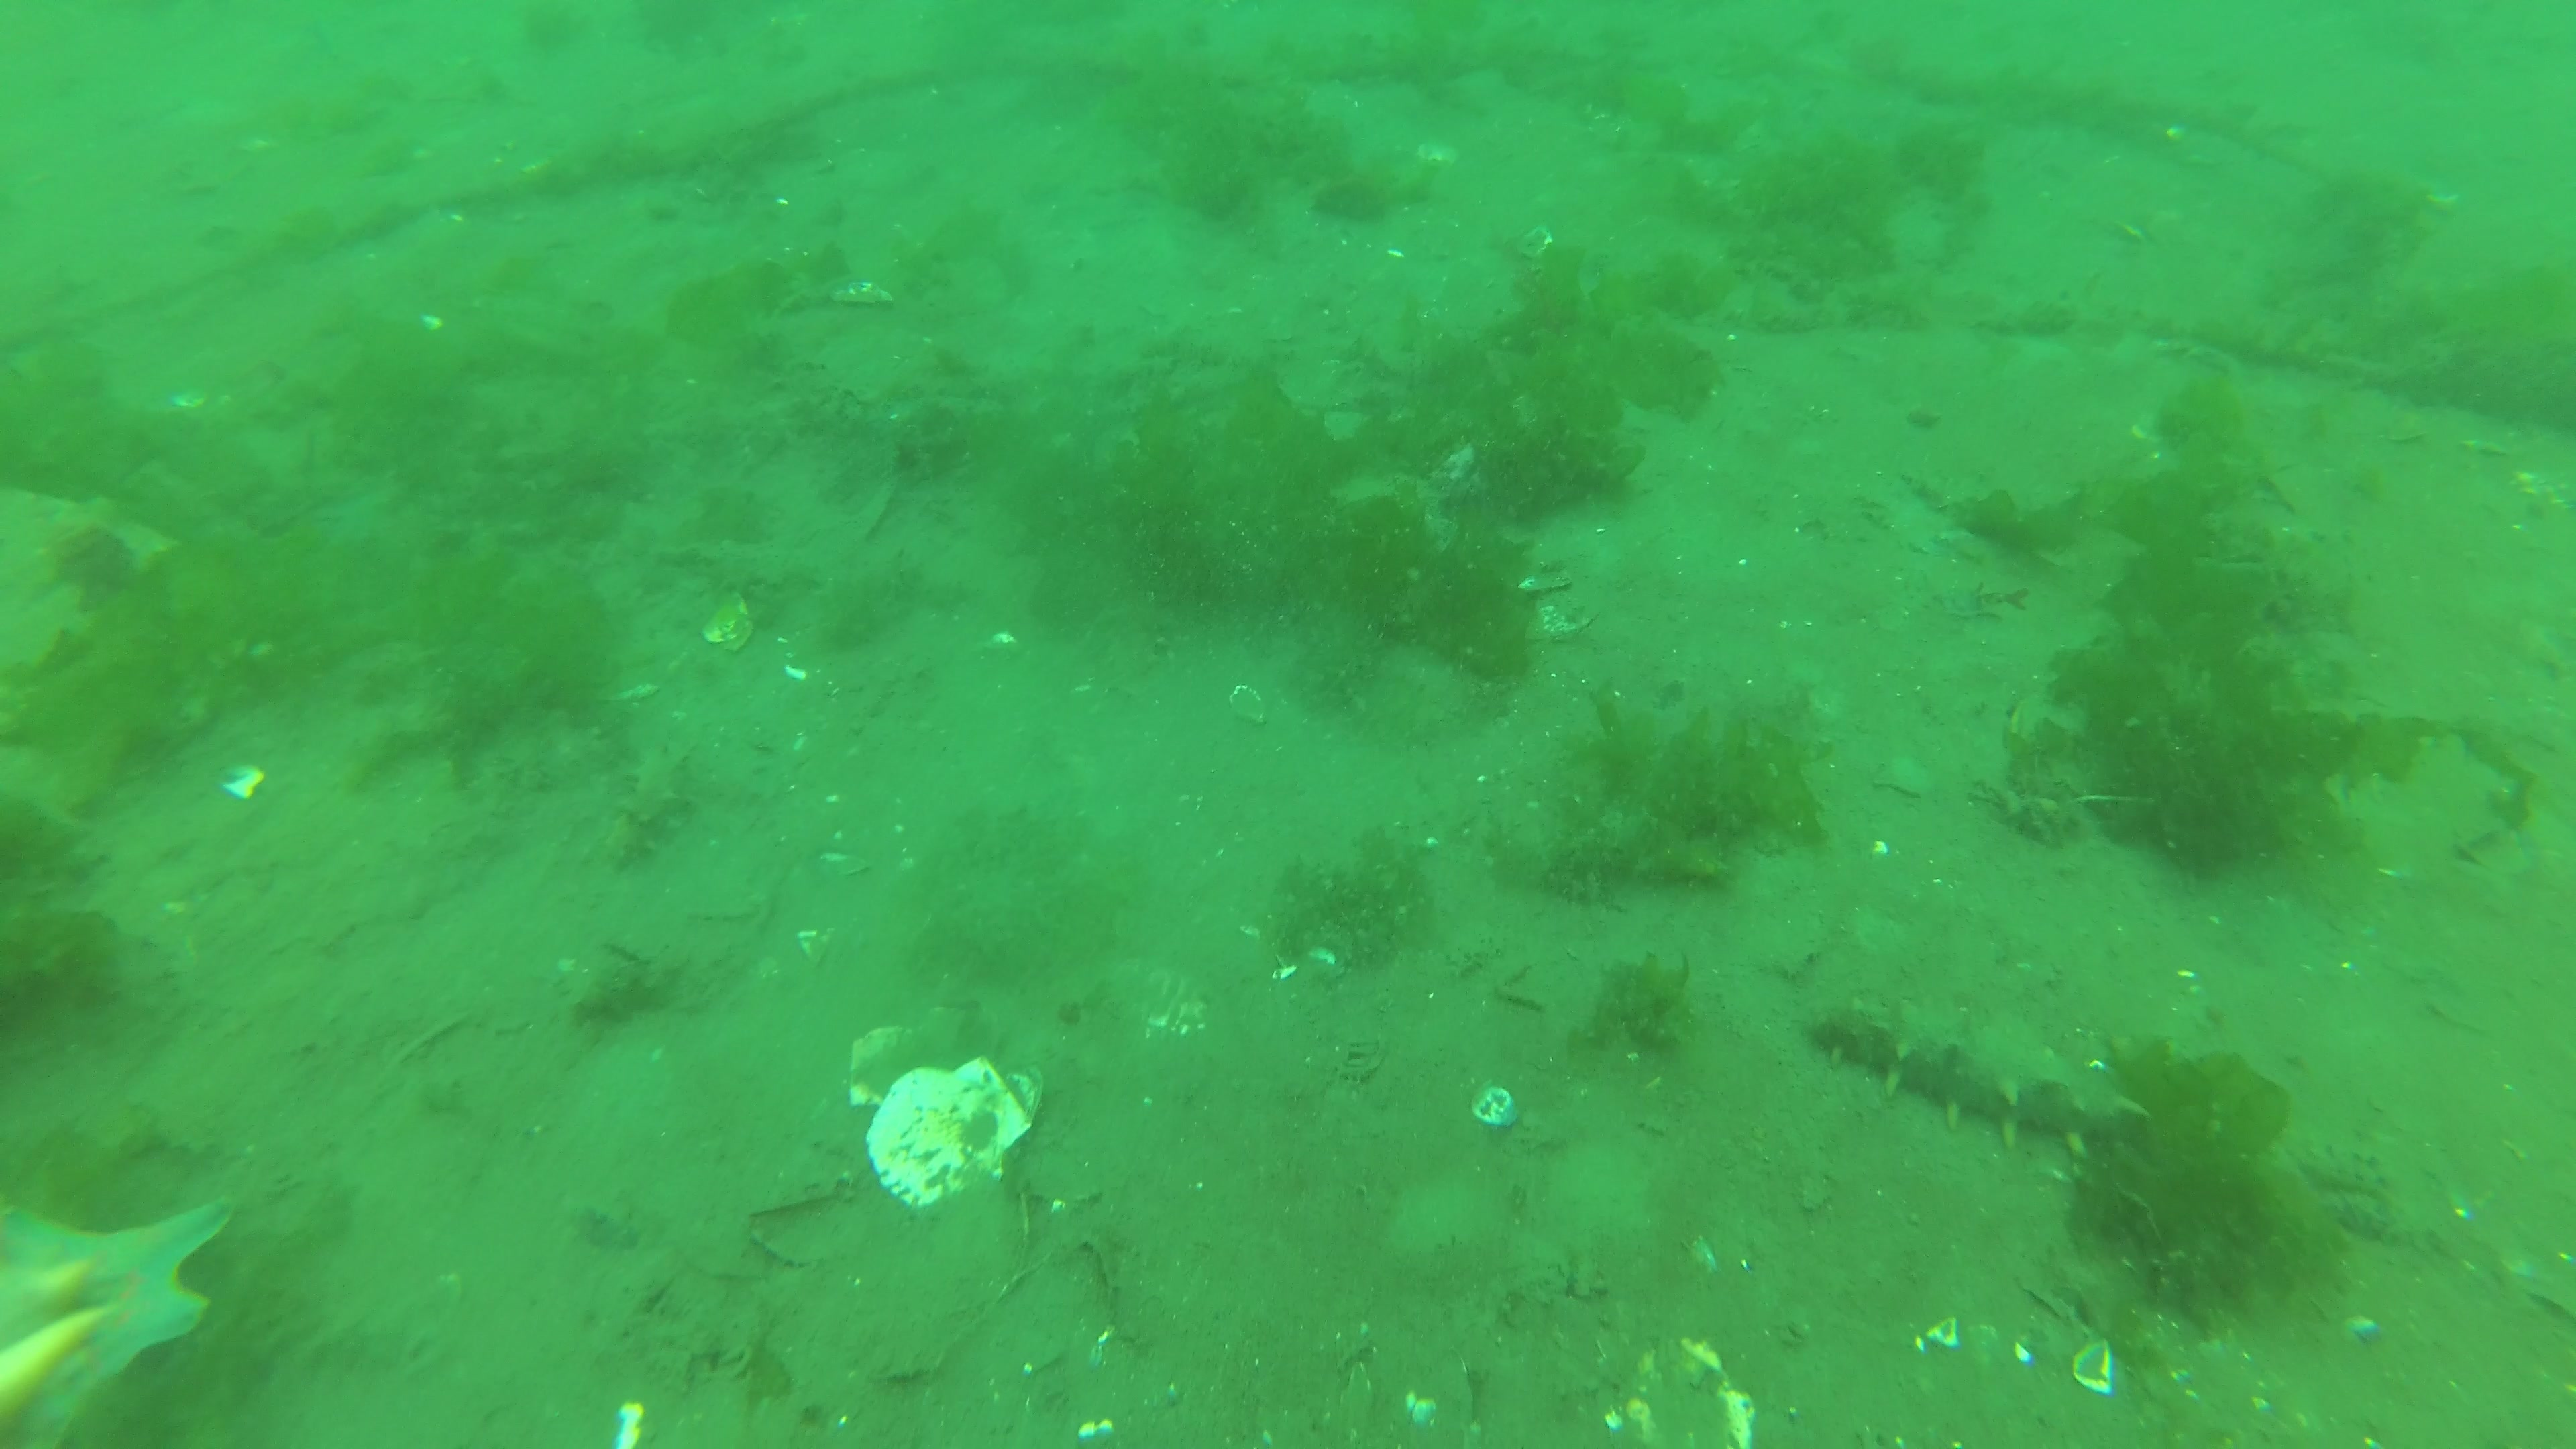holothurian: (1806, 998, 2151, 1164), (596, 743, 697, 874), (1099, 594, 1182, 697)
scallop: (863, 1058, 1033, 1210), (1624, 1332, 1760, 1449), (2013, 678, 2114, 812)
starfish: (0, 1192, 235, 1449)
